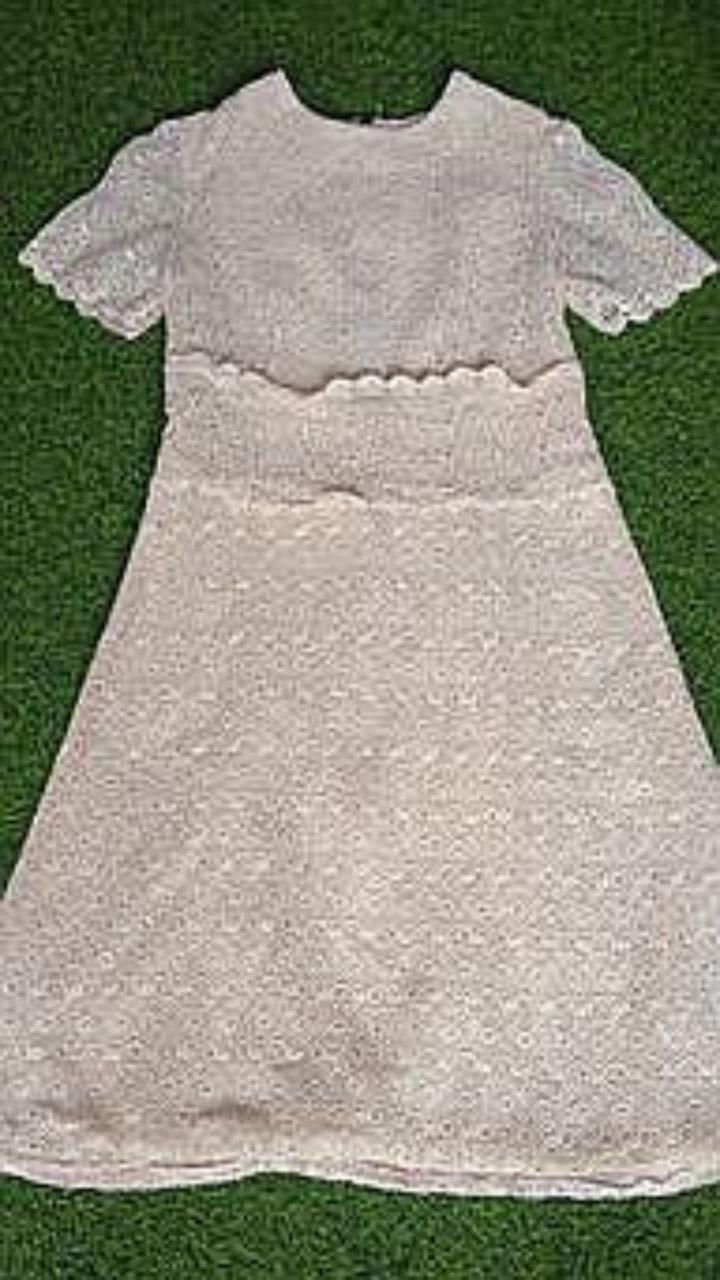Dresses: (0, 70, 719, 1197)
